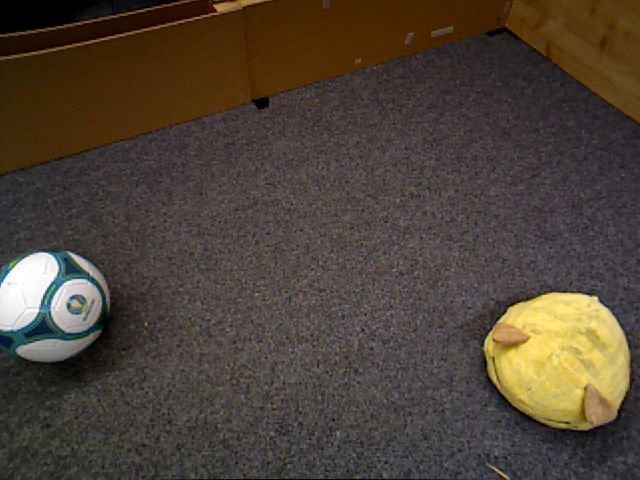grasp: (481, 289, 631, 434)
kick: (1, 251, 111, 362)
